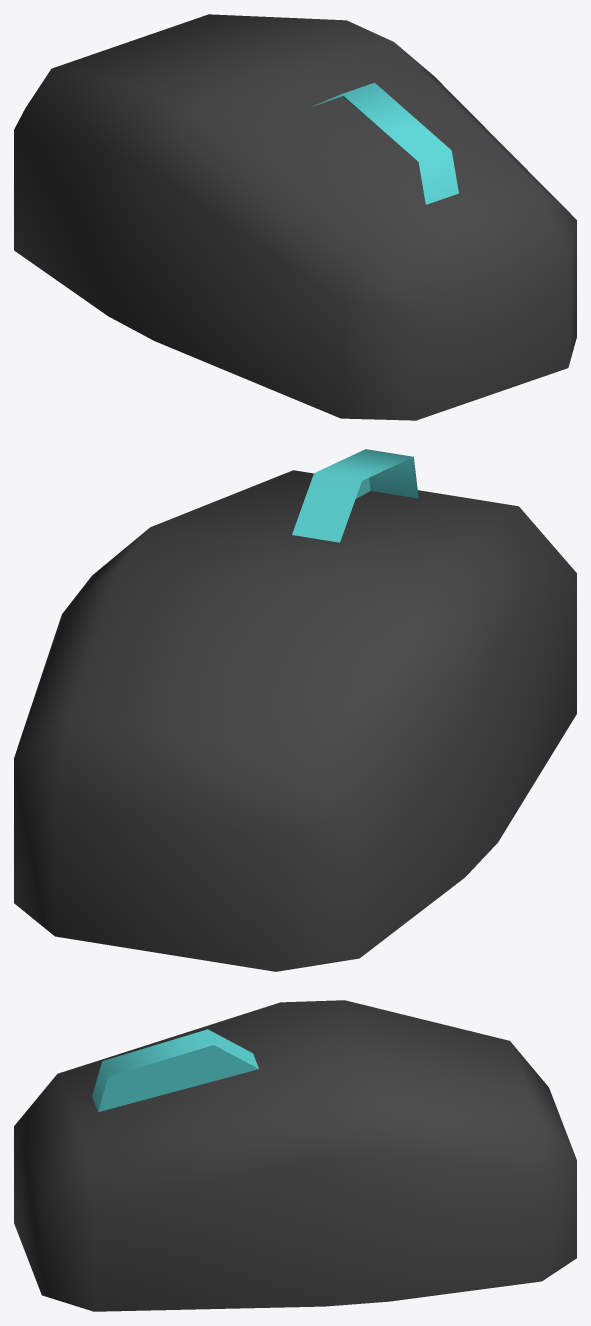
Rendered from mesh_mouse_02.fbx.
The picture shows the model from 3 angles, top to bottom: view 1: azimuth 30°, elevation 25°; view 2: azimuth 150°, elevation 25°; view 3: azimuth 270°, elevation 25°; orthographic projection. The views are drawn at different scales.
Parts seen in each view (by area): view 1: mesh_mouse_01; view 2: mesh_mouse_01; view 3: mesh_mouse_01.
Boxes of the visible parts, box(x1,y1,x2,y2) form: mesh_mouse_01: box(14, 14, 576, 420); mesh_mouse_01: box(14, 449, 576, 971); mesh_mouse_01: box(14, 1000, 576, 1311).
Size of what is drawn, in the model's own units: 3.57 by 2.43 by 5.93.
